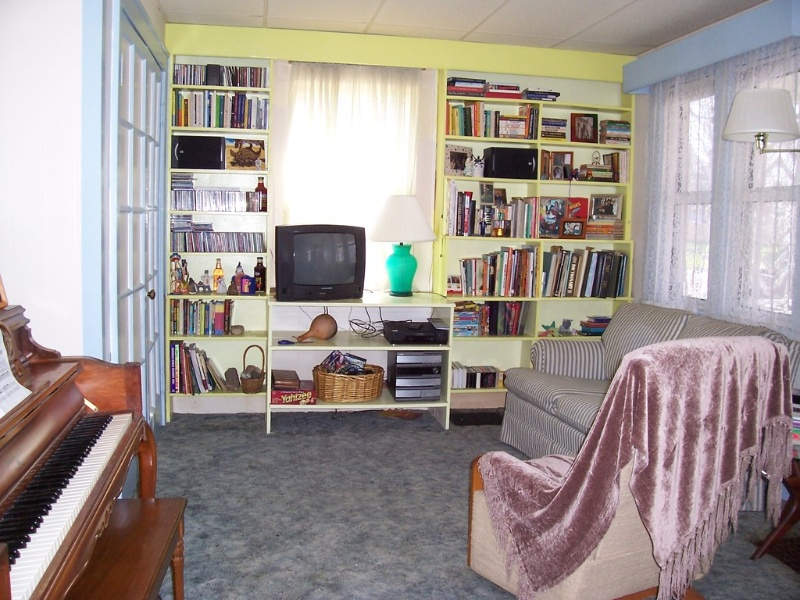book: (459, 244, 632, 297), (170, 337, 211, 394), (595, 114, 634, 151), (445, 72, 490, 97)
couch: (509, 294, 789, 449)
tv: (269, 222, 372, 303)
